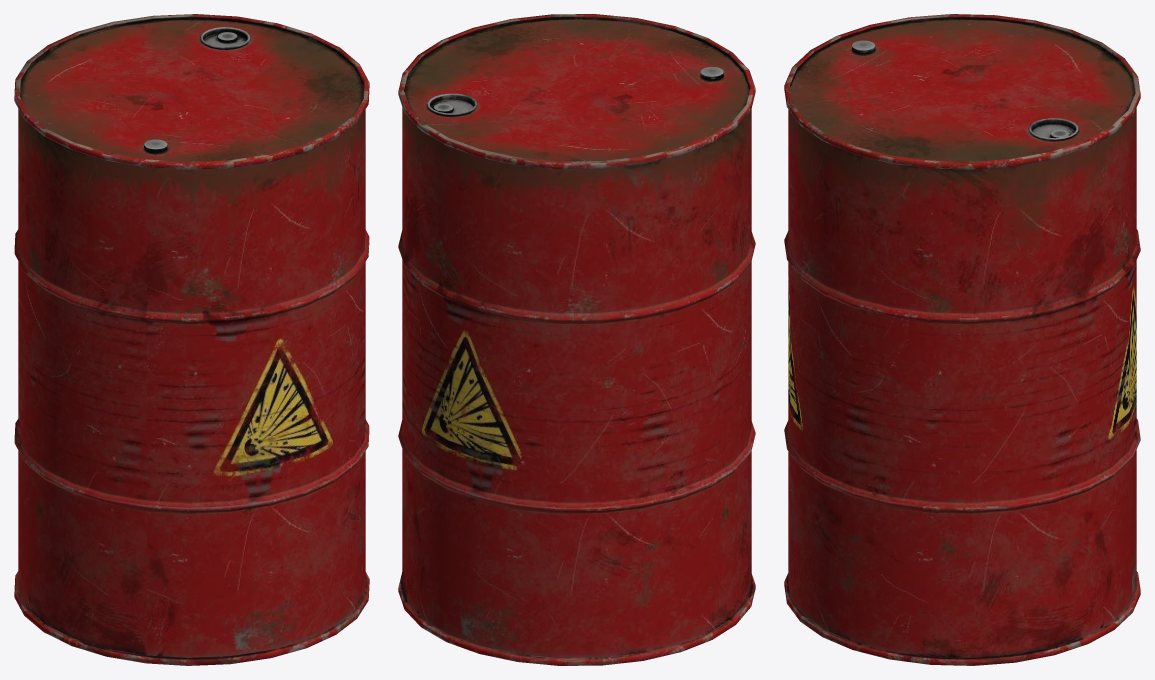
Rendered from Barrel_01.glb.
3 renders of one model, left to right at view 1: azimuth 30°, elevation 25°; view 2: azimuth 150°, elevation 25°; view 3: azimuth 270°, elevation 25°, orthographic.
Parts seen in each view (by area): view 1: Barrel_01; view 2: Barrel_01; view 3: Barrel_01.
Part boxes in pixels (x1=…): Barrel_01: x1=14, y1=14, x2=369, y2=665; Barrel_01: x1=398, y1=14, x2=755, y2=665; Barrel_01: x1=784, y1=14, x2=1140, y2=665.
Bounding box in the file's own units: 0.5631 × 0.88 × 0.5631.
Materials: 1 (1 with a texture image).
